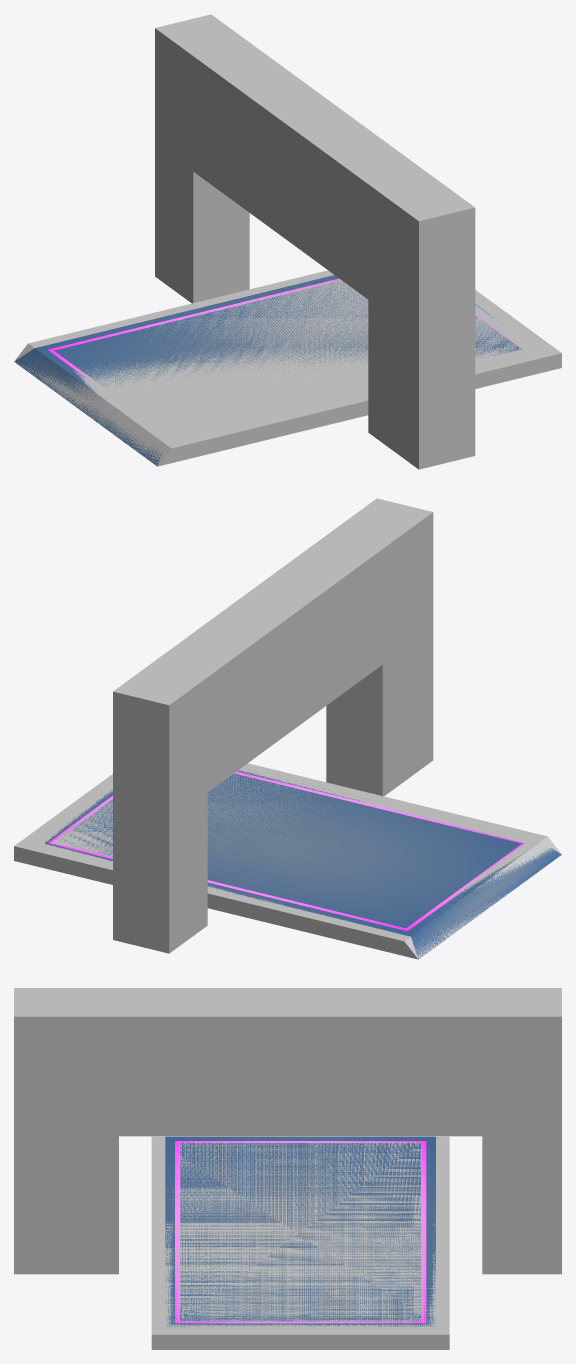
Rendered from SM_Car_Wash_Machine.fbx.
3 renders of one model, top to bottom at view 1: azimuth 30°, elevation 25°; view 2: azimuth 150°, elevation 25°; view 3: azimuth 270°, elevation 25°, orthographic. The views are drawn at different scales.
Visible parts, largest first — view 1: SM_Car_Wash_Machine_ConvexHulls, SM_Car_Wash_Machine; view 2: SM_Car_Wash_Machine_ConvexHulls, SM_Car_Wash_Machine; view 3: SM_Car_Wash_Machine_ConvexHulls, SM_Car_Wash_Machine.
Boxes of the visible parts, bbox=[...] form: SM_Car_Wash_Machine_ConvexHulls: bbox=[14, 14, 561, 469]; SM_Car_Wash_Machine: bbox=[14, 275, 521, 466]; SM_Car_Wash_Machine_ConvexHulls: bbox=[14, 498, 561, 959]; SM_Car_Wash_Machine: bbox=[45, 770, 561, 958]; SM_Car_Wash_Machine_ConvexHulls: bbox=[14, 988, 561, 1349]; SM_Car_Wash_Machine: bbox=[165, 1136, 435, 1327].
Bounding box in the file's own units: 573 × 648 × 336.
2 materials, 1 textured.
